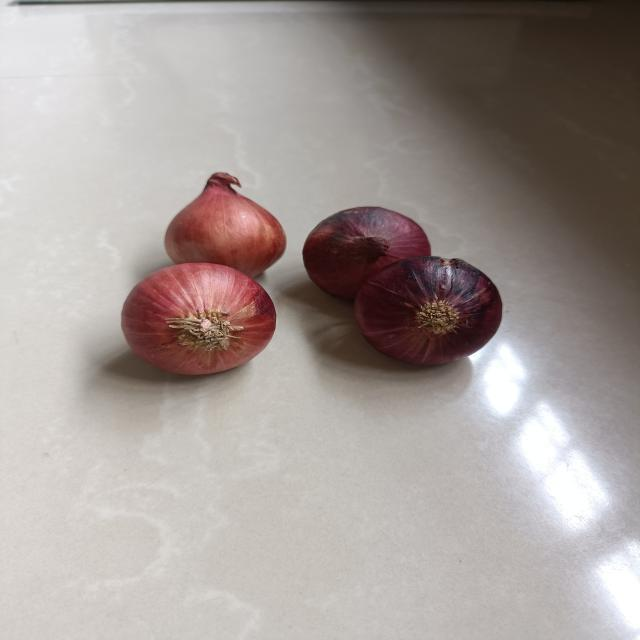onion: (116, 260, 282, 378), (348, 252, 507, 368), (159, 170, 291, 278), (296, 202, 439, 299)
